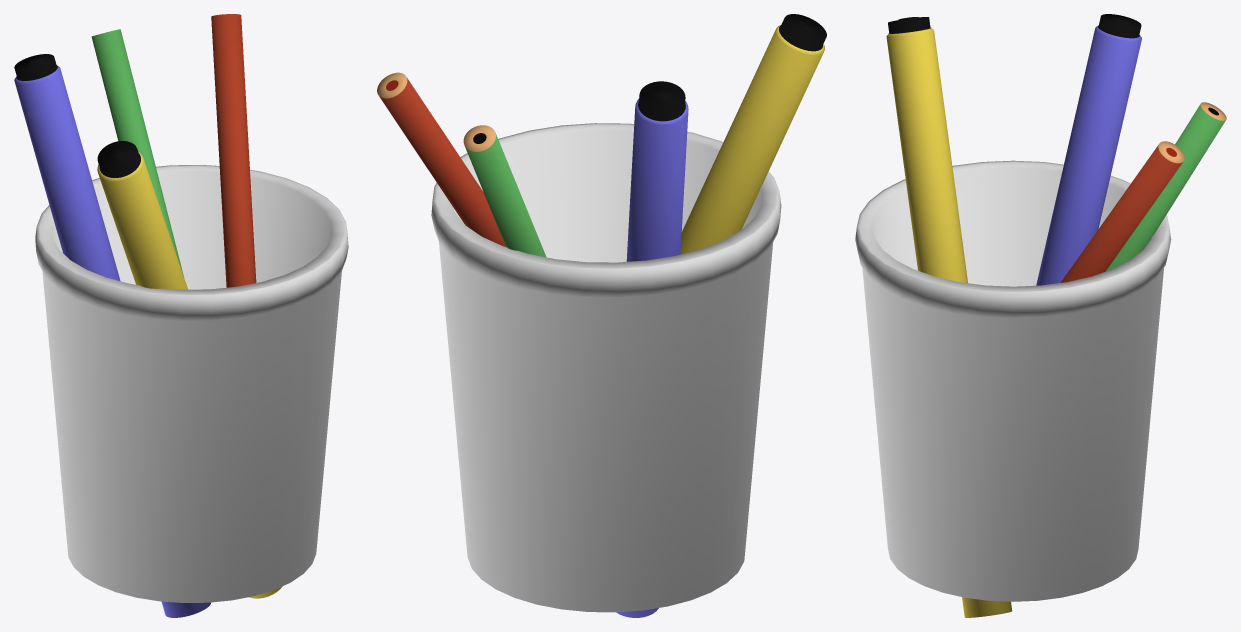
Rendered from CopoComLapis.fbx.
The picture shows the model from 3 angles, left to right: view 1: azimuth 30°, elevation 25°; view 2: azimuth 150°, elevation 25°; view 3: azimuth 270°, elevation 25°; orthographic projection. The views are drawn at different scales.
Parts seen in each view (by area): view 1: Cylinder.012, Cylinder.013, Cylinder.015, Cylinder.016, Cylinder.014; view 2: Cylinder.012, Cylinder.016, Cylinder.013, Cylinder.015, Cylinder.014; view 3: Cylinder.012, Cylinder.016, Cylinder.013, Cylinder.015, Cylinder.014.
Boxes of the visible parts, bbox=[...] form: Cylinder.012: bbox=[35, 165, 348, 602]; Cylinder.013: bbox=[14, 54, 211, 617]; Cylinder.015: bbox=[211, 14, 256, 287]; Cylinder.016: bbox=[97, 141, 282, 598]; Cylinder.014: bbox=[91, 29, 183, 276]; Cylinder.012: bbox=[431, 123, 781, 612]; Cylinder.016: bbox=[680, 14, 826, 254]; Cylinder.013: bbox=[616, 81, 688, 617]; Cylinder.015: bbox=[377, 72, 505, 246]; Cylinder.014: bbox=[463, 125, 546, 257]; Cylinder.012: bbox=[855, 160, 1171, 601]; Cylinder.016: bbox=[886, 17, 1012, 617]; Cylinder.013: bbox=[1036, 14, 1141, 285]; Cylinder.015: bbox=[1060, 141, 1184, 282]; Cylinder.014: bbox=[1106, 102, 1226, 271].
Bounding box in the file's own units: 21.26 × 38.71 × 24.37.
